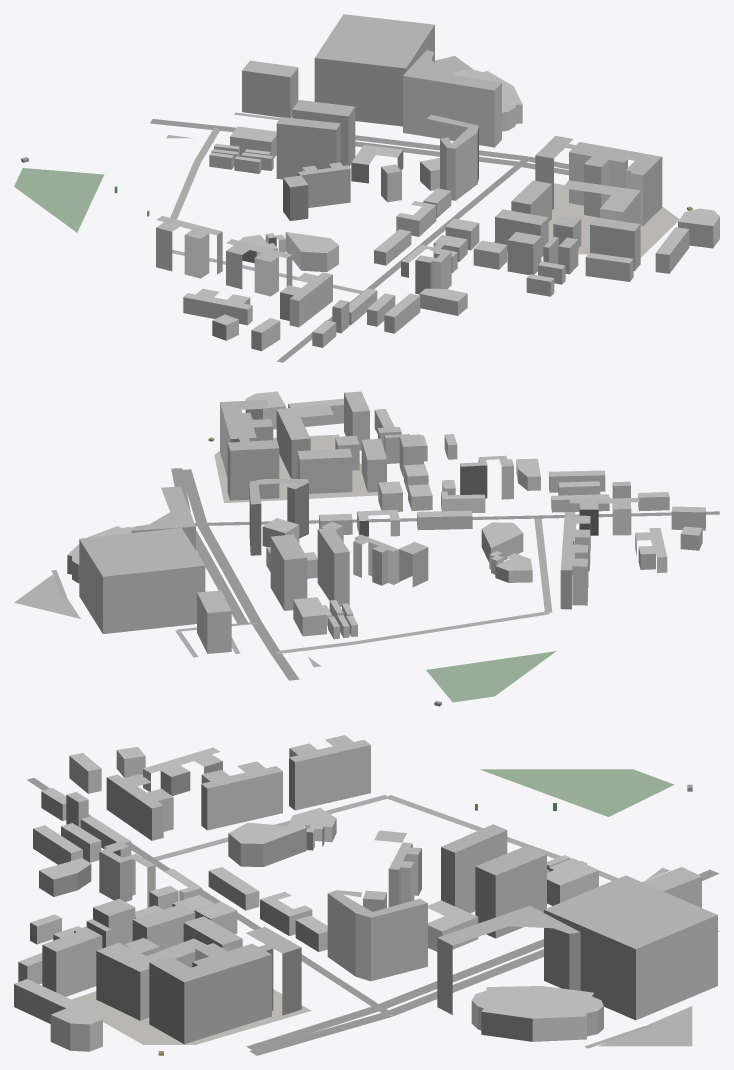
3 views of the same model, one above another, from view 1: azimuth 30°, elevation 25°; view 2: azimuth 150°, elevation 25°; view 3: azimuth 270°, elevation 25° (orthographic). The views are drawn at different scales.
Bounding box in the file's own units: 525 × 60.49 × 539.
